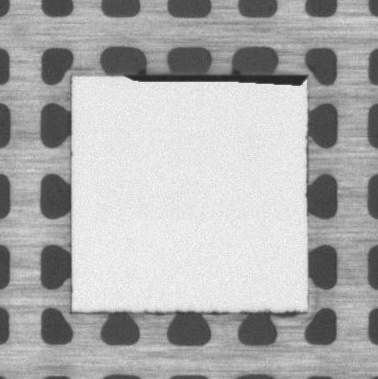DIE_BROKEN: (121, 72, 313, 88)
